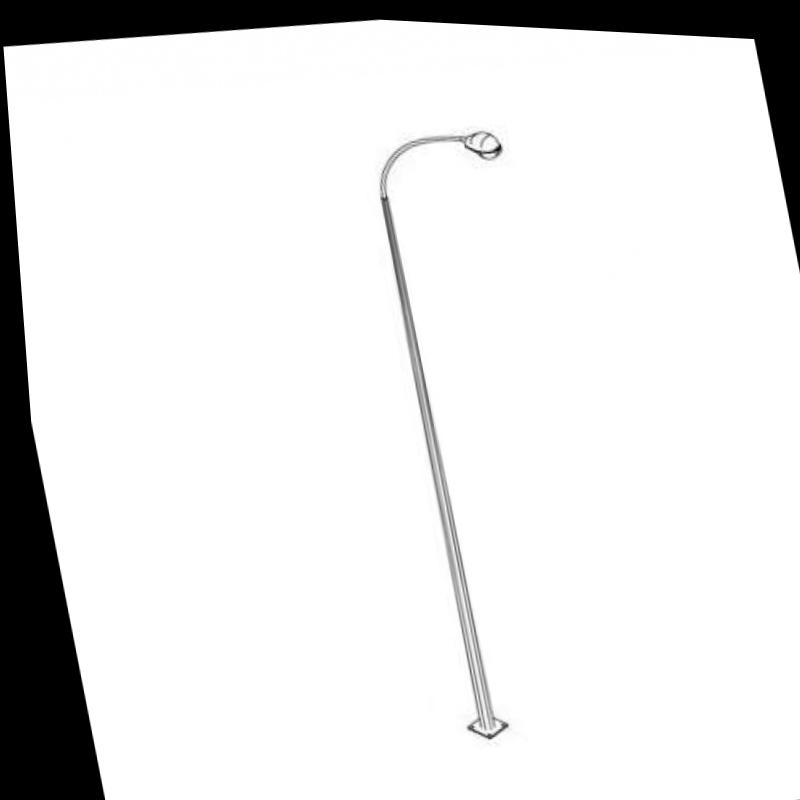Animal: (315, 92, 617, 769)
